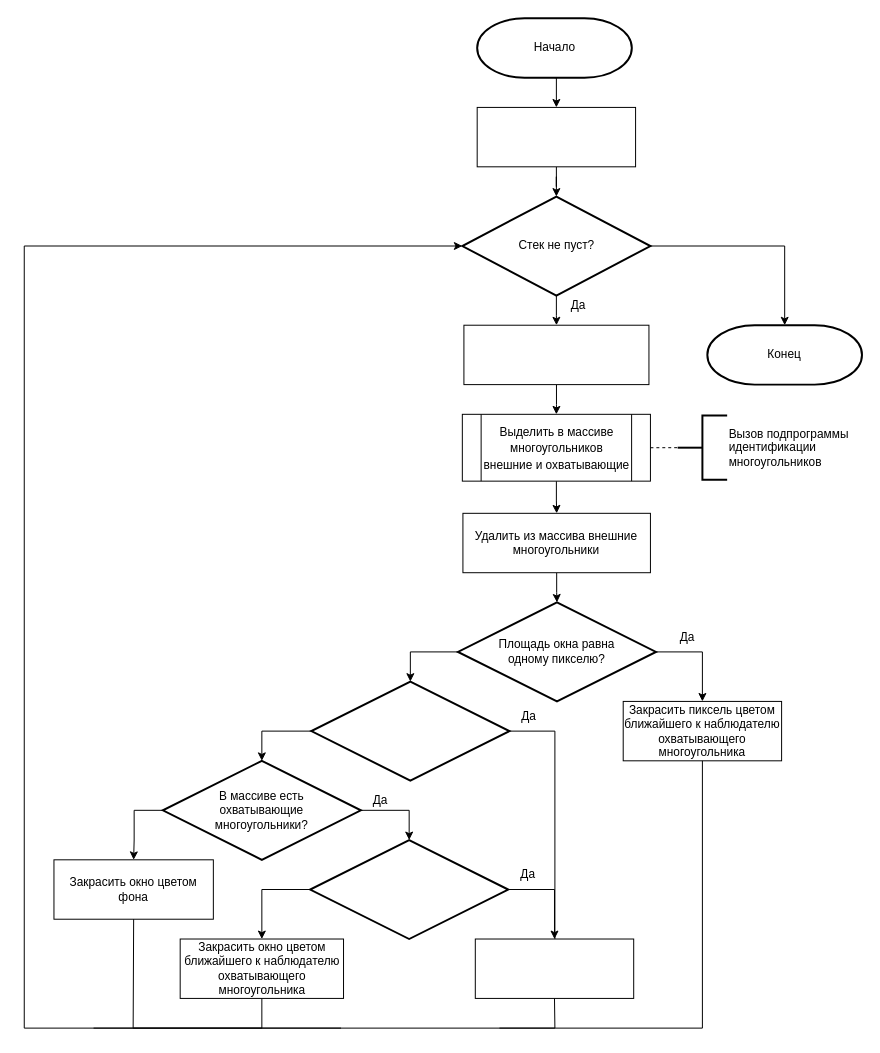
Some shapes in this 880 by 1053 pixel diagram are drawn without their labels. The shapes that lost their labels are listed below. From the top down, each one's centre as x and y in pixels, then its label:
point (556, 136): Добавить исходное окно в стек
point (556, 354): Извлечь окно из стека
point (410, 730): В массиве не все многоугольники являются охватывающими?
point (409, 889): Среди охватывающих многоугольников нет ближайшего?
point (554, 968): Разбить окно на подокна и положить их в стек
